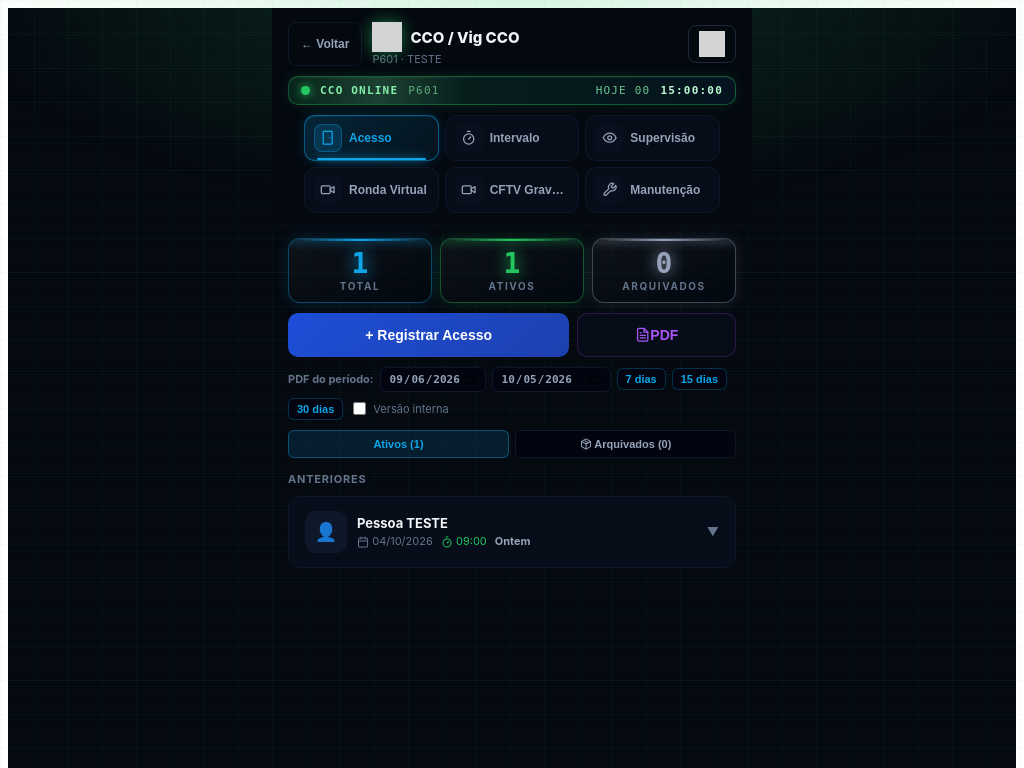
Scenario: espera leitura, bloqueia clique repetido e libera após sucesso
Click the checkbox labelled "Versão interna": (360,409) x1=353 y1=402 x2=366 y2=415
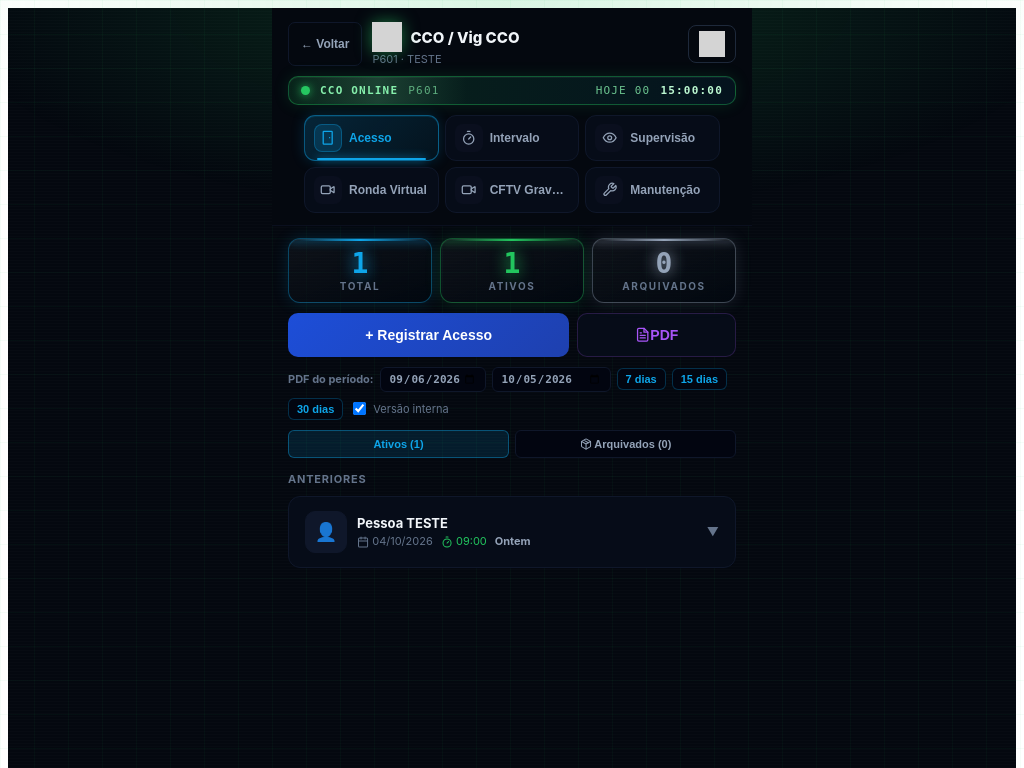
Click the button "PDF": (657,335) x1=577 y1=313 x2=736 y2=357
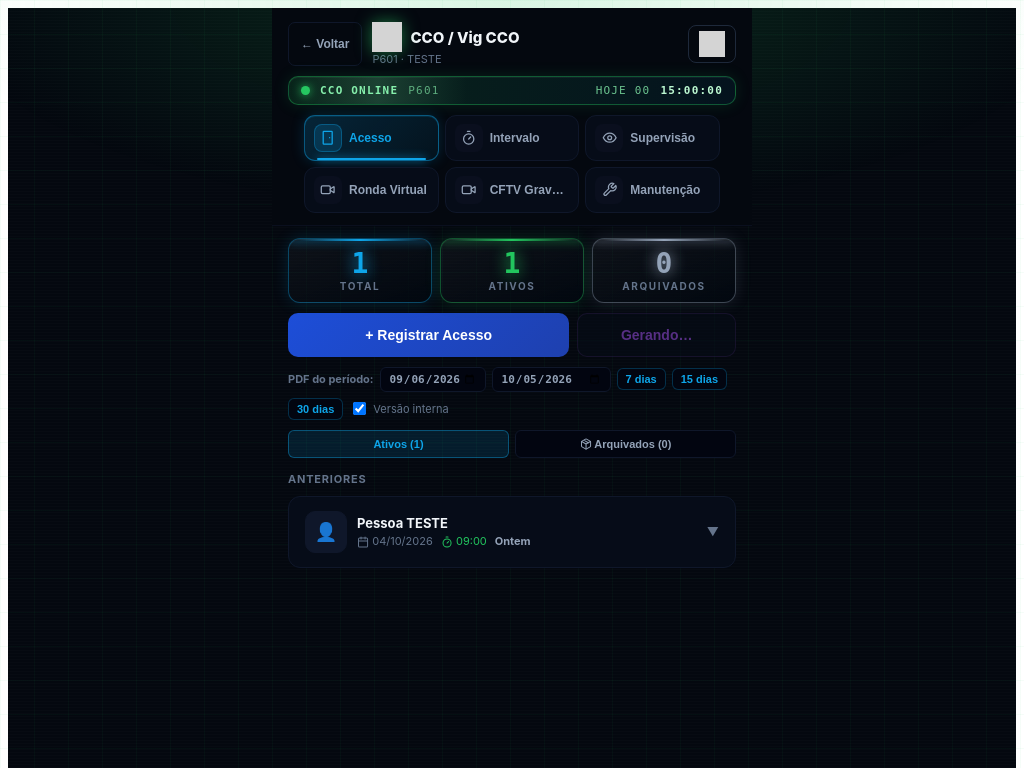
Now the button "Gerando…" is disabled
Now the button "Gerando…" is shown
Click the button "Gerando…": (657,335) x1=577 y1=313 x2=736 y2=357
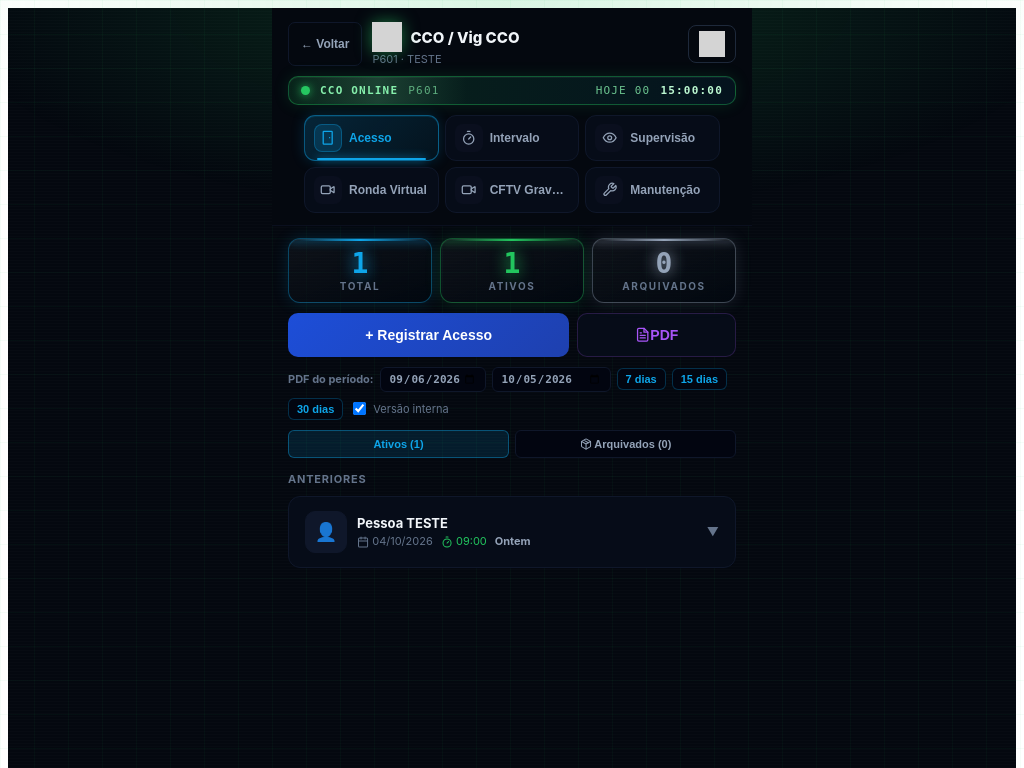
Now the button "PDF" is enabled, box x1=577 y1=313 x2=736 y2=357
